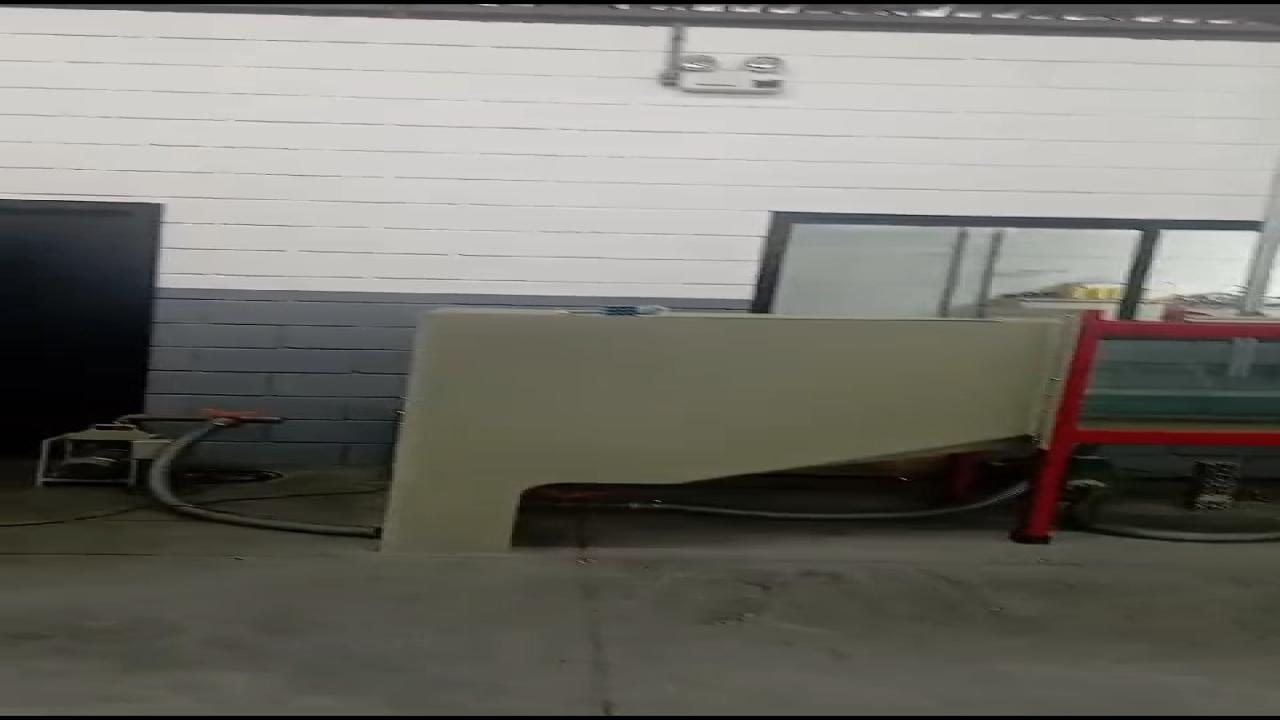Cube: (602, 306, 637, 316)
